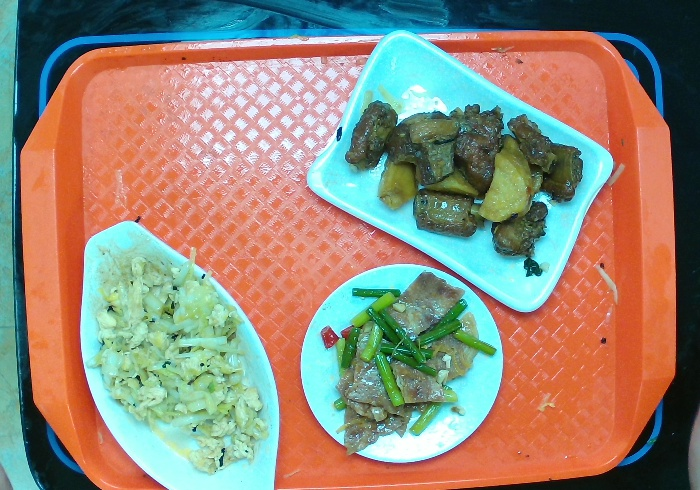RJxy-Si_Fang_Ao_Bian_Wan: (301, 21, 613, 306)
RJxy-Xiao_Yuan_Die: (297, 260, 508, 461)
RJxy-Yu_Pan: (78, 222, 284, 490)
